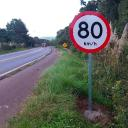speed_limit_80: (68, 10, 112, 54)
